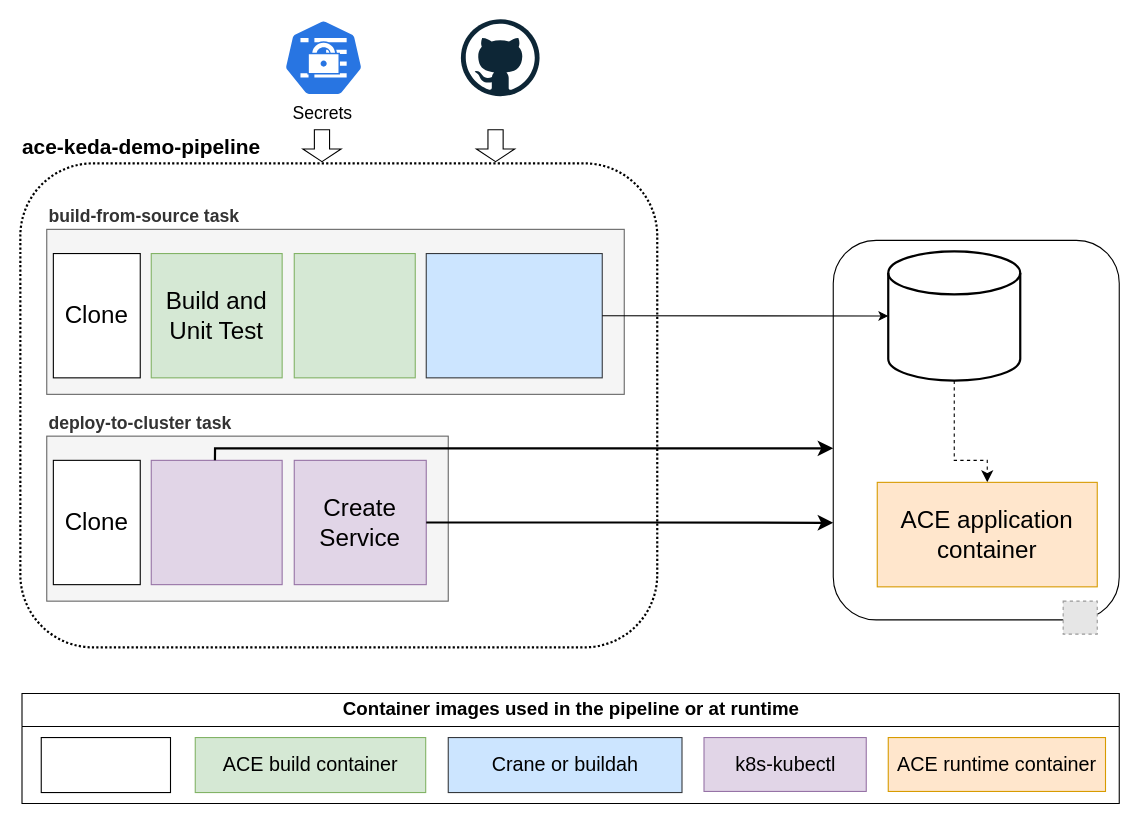
Image size: 1139x823. Some labels were removed from this diagram. Grey dashed boxes stand in for pictures. The centre of each missing label's shape, as x and y in pixels:
"ace-keda-demo" belongs at point (500, 57).
"Container build and push" belongs at point (513, 315).
"Container setup" belongs at point (354, 315).
"Deploy Application" belongs at point (216, 522).
"git-init" belongs at point (105, 764).
"Image Registry" belongs at point (954, 315).
